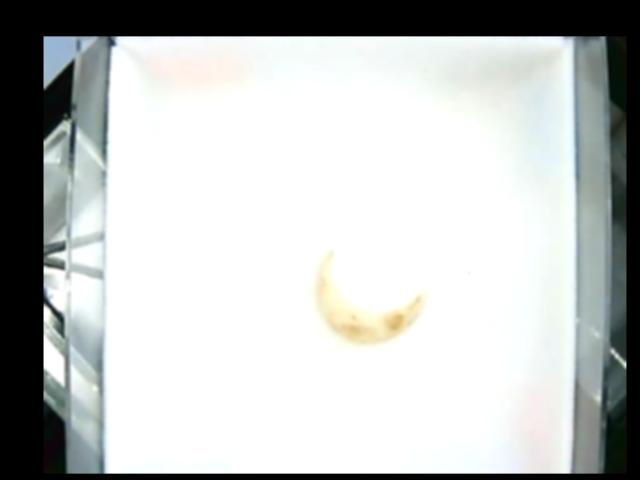Mooli: (317, 241, 424, 341)
